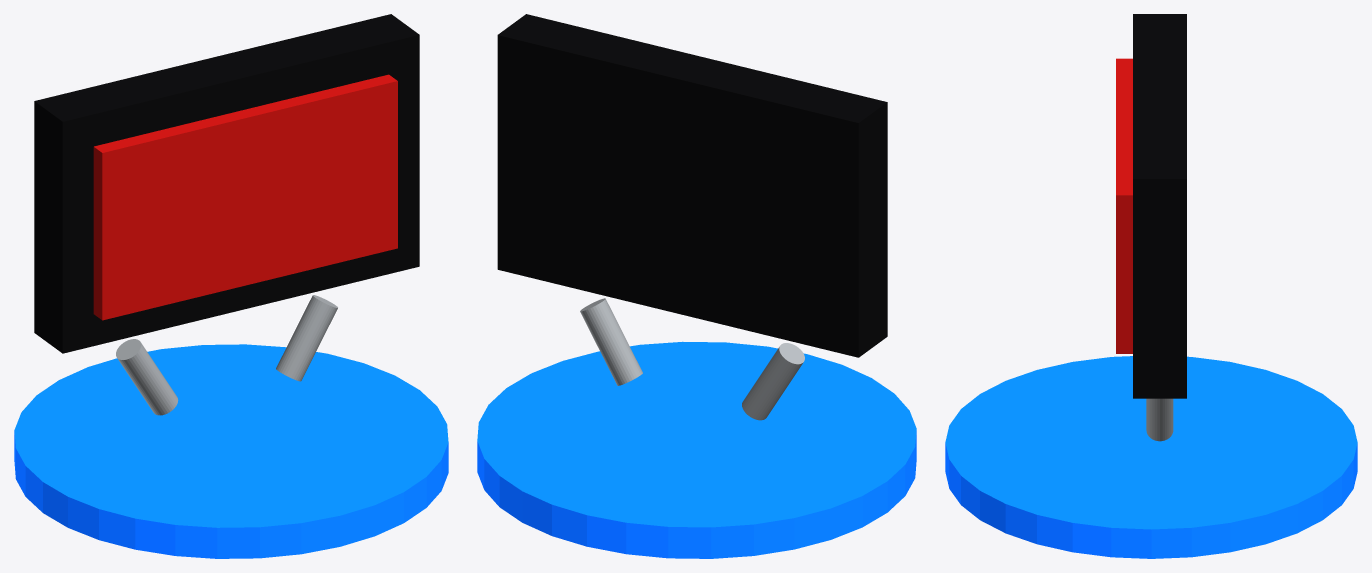
The model's file is news_live_tv.dae.
3 renders of one model, left to right at view 1: azimuth 30°, elevation 25°; view 2: azimuth 150°, elevation 25°; view 3: azimuth 270°, elevation 25°, orthographic. The views are drawn at different scales.
Parts seen in each view (by area): view 1: 09_10_Popular_News_Live_TV_ROOT_base, 09_10_Popular_News_Live_TV_part_02, 09_10_Popular_News_Live_TV_part_01, 09_10_Popular_News_Live_TV_part_04, 09_10_Popular_News_Live_TV_part_03; view 2: 09_10_Popular_News_Live_TV_part_01, 09_10_Popular_News_Live_TV_ROOT_base, 09_10_Popular_News_Live_TV_part_04, 09_10_Popular_News_Live_TV_part_03; view 3: 09_10_Popular_News_Live_TV_ROOT_base, 09_10_Popular_News_Live_TV_part_01, 09_10_Popular_News_Live_TV_part_02, 09_10_Popular_News_Live_TV_part_04.
Part boxes in pixels (<box>): 09_10_Popular_News_Live_TV_ROOT_base: <box>14,344,448,558</box>; 09_10_Popular_News_Live_TV_part_02: <box>93,74,397,320</box>; 09_10_Popular_News_Live_TV_part_01: <box>34,14,419,353</box>; 09_10_Popular_News_Live_TV_part_04: <box>276,295,337,381</box>; 09_10_Popular_News_Live_TV_part_03: <box>116,339,178,415</box>; 09_10_Popular_News_Live_TV_part_01: <box>497,14,887,357</box>; 09_10_Popular_News_Live_TV_ROOT_base: <box>477,341,916,558</box>; 09_10_Popular_News_Live_TV_part_04: <box>580,298,642,385</box>; 09_10_Popular_News_Live_TV_part_03: <box>742,343,804,420</box>; 09_10_Popular_News_Live_TV_ROOT_base: <box>945,356,1357,558</box>; 09_10_Popular_News_Live_TV_part_01: <box>1133,14,1186,398</box>; 09_10_Popular_News_Live_TV_part_02: <box>1116,58,1132,353</box>; 09_10_Popular_News_Live_TV_part_04: <box>1146,398,1173,441</box>.
Size of the model in its own units: 0.76 by 0.7635 by 0.76.
